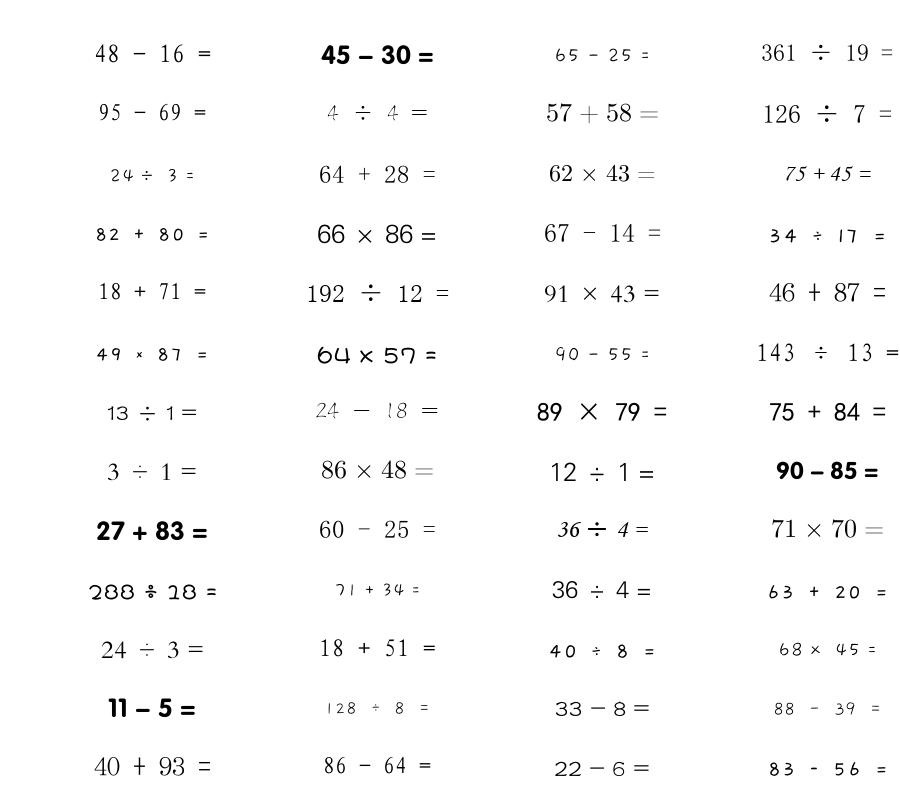MQ: (756, 343, 899, 362), (306, 284, 449, 302), (762, 104, 892, 123), (537, 402, 667, 421), (317, 224, 437, 244), (546, 103, 659, 124), (769, 282, 886, 302), (94, 756, 211, 776), (321, 45, 434, 65), (761, 44, 893, 61), (96, 521, 208, 541), (94, 44, 211, 63), (544, 223, 661, 242), (769, 402, 886, 421), (317, 346, 437, 364), (321, 460, 434, 479), (771, 519, 884, 538), (315, 402, 439, 419), (319, 165, 436, 183), (319, 520, 436, 538), (319, 639, 436, 657), (544, 285, 660, 303), (88, 584, 217, 600), (549, 462, 655, 481), (98, 103, 206, 121), (98, 282, 206, 300), (323, 756, 431, 774), (776, 461, 878, 480), (549, 164, 656, 182), (552, 580, 652, 599), (101, 641, 204, 659), (108, 698, 196, 718), (766, 585, 888, 599), (767, 762, 888, 776), (768, 229, 887, 243), (107, 463, 197, 481), (327, 105, 428, 121), (554, 346, 650, 362), (773, 702, 882, 716), (548, 644, 656, 658), (94, 228, 210, 241), (778, 642, 877, 657), (95, 348, 209, 361), (556, 521, 648, 537), (554, 48, 650, 63), (554, 761, 650, 776), (555, 701, 650, 716), (324, 702, 431, 715), (107, 406, 197, 421), (783, 166, 871, 181), (109, 168, 195, 183), (334, 583, 421, 597)
